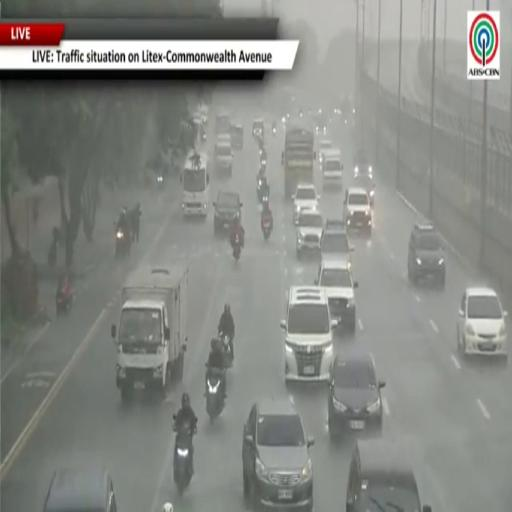car: (243, 399, 314, 511), (346, 440, 431, 511), (281, 286, 339, 381), (328, 354, 385, 438), (457, 287, 507, 359), (43, 468, 116, 511), (315, 262, 358, 333), (408, 223, 446, 287), (321, 219, 353, 264), (343, 187, 372, 235), (297, 210, 323, 259), (214, 191, 242, 235), (292, 183, 319, 225), (354, 151, 375, 205), (321, 150, 343, 189), (215, 135, 233, 176), (354, 150, 372, 178), (215, 112, 231, 135), (319, 139, 332, 164), (231, 124, 243, 150), (325, 218, 344, 230), (253, 119, 264, 138)
motorcycle: (173, 415, 196, 494), (205, 363, 225, 422), (219, 331, 233, 369), (48, 228, 61, 268), (56, 288, 73, 315), (116, 227, 131, 257), (261, 217, 272, 241), (233, 235, 241, 261), (256, 178, 262, 200), (163, 502, 173, 511), (157, 174, 163, 187), (261, 154, 266, 168), (272, 124, 276, 135)
truck: (111, 264, 188, 401), (282, 123, 316, 198), (180, 152, 209, 217)
